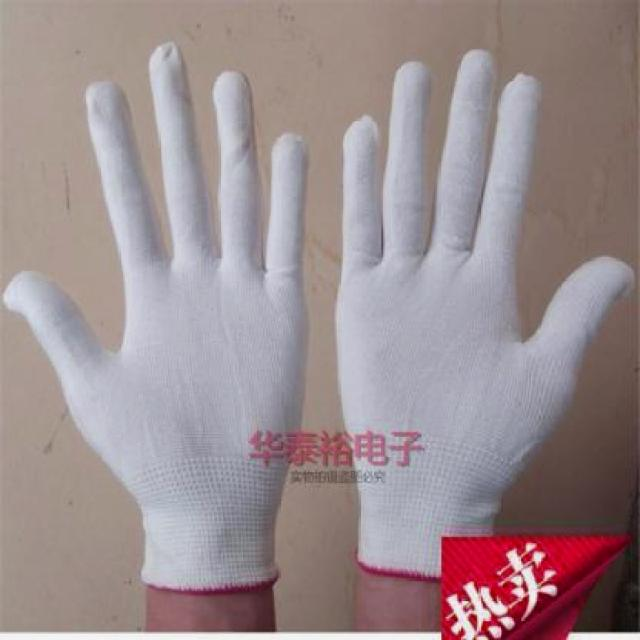hand_glove: (8, 41, 309, 552), (330, 47, 633, 516)
